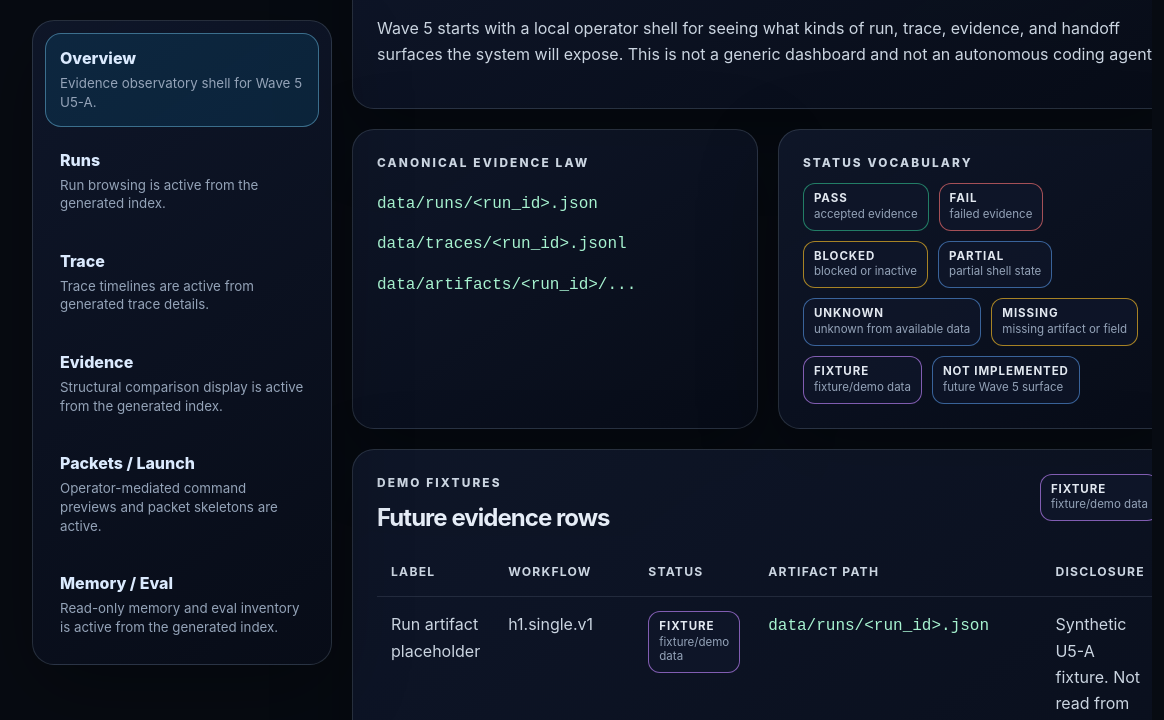
Scenario: U5-A workbench shell › shows invalid workflow catalog without fixture fallback
(page scrolled)
What coordinates should you click on to do the following:
click the button "Packets / Launch"
I would click on:
 (182, 494)
Its box is [45,438,319,550].
(page scrolled)
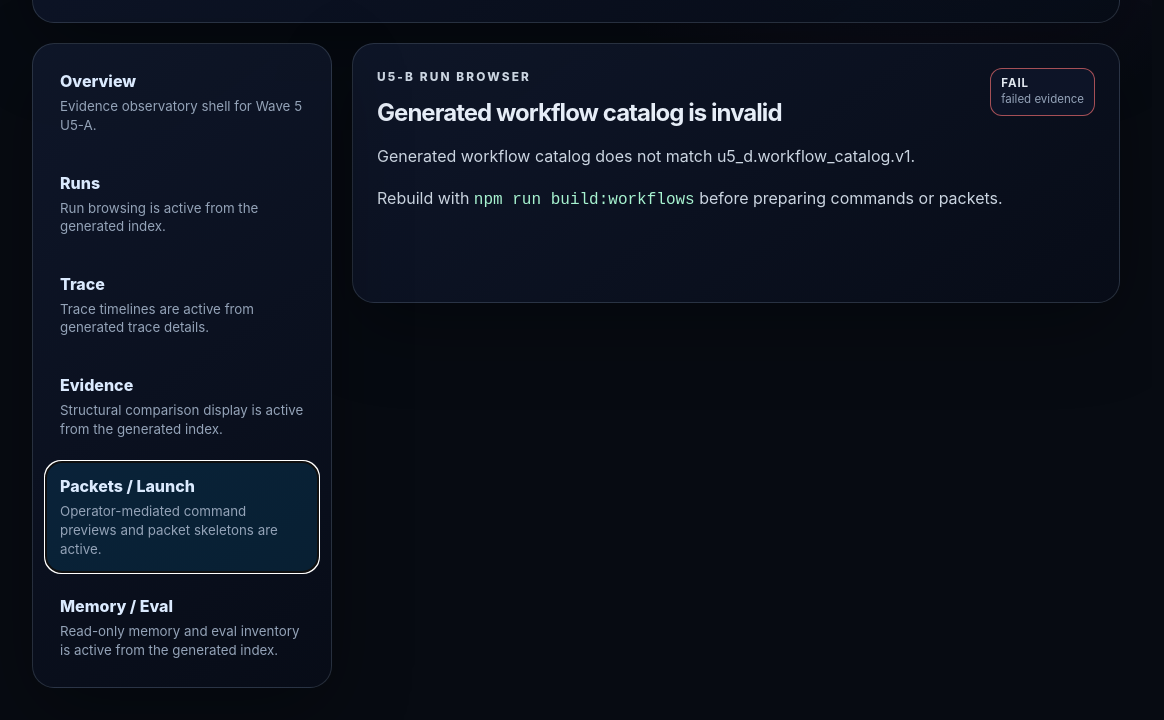
Check: the heading "Generated workflow catalog is invalid" is shown, box [377,98,782,127]
